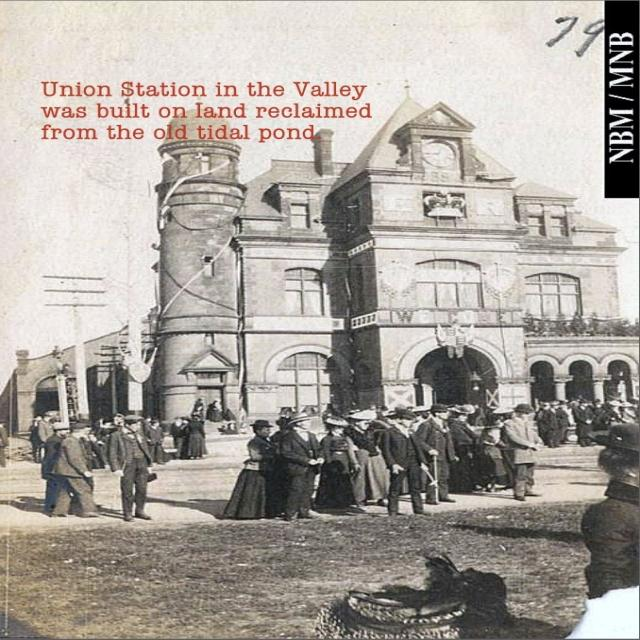body: (578, 421, 640, 600), (276, 409, 328, 525), (228, 419, 286, 522), (377, 411, 431, 518), (51, 421, 108, 519), (411, 402, 464, 506), (106, 414, 156, 523), (498, 402, 550, 502), (534, 398, 636, 447), (312, 415, 362, 513), (342, 409, 391, 508), (39, 421, 78, 513), (446, 404, 484, 490), (140, 415, 207, 462), (76, 414, 126, 471), (472, 414, 507, 489), (26, 412, 56, 464), (266, 406, 296, 444), (208, 415, 248, 435), (191, 398, 233, 416), (376, 408, 403, 431), (0, 417, 11, 466), (412, 404, 432, 428), (342, 404, 390, 414)
